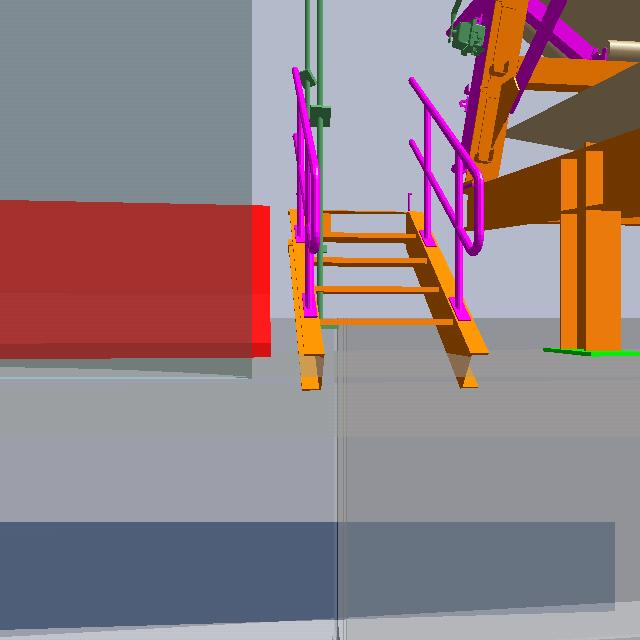Poste: (308, 1, 331, 328)
